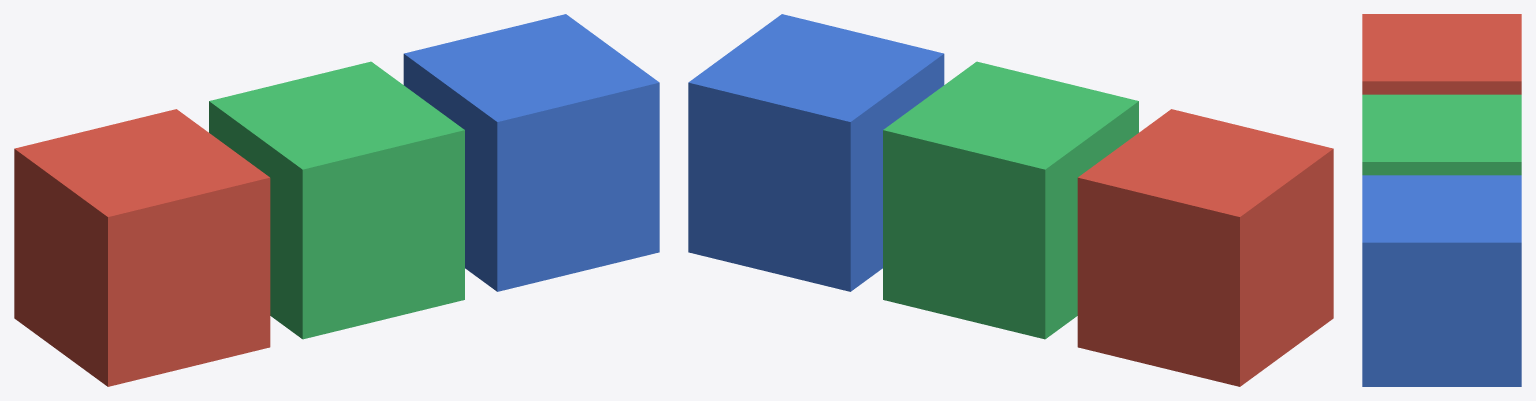
Rendered from lighting-metallic.gltf.
The picture shows the model from 3 angles, left to right: view 1: azimuth 30°, elevation 25°; view 2: azimuth 150°, elevation 25°; view 3: azimuth 270°, elevation 25°; orthographic projection. The views are drawn at different scales.
Parts seen in each view (by area): view 1: Metal Red Cube, Metal Blue Cube, Metal Green Cube; view 2: Metal Red Cube, Metal Blue Cube, Metal Green Cube; view 3: Metal Blue Cube, Metal Green Cube, Metal Red Cube.
Part boxes in pixels (x1,y1,x2,y2): Metal Red Cube: [14, 109, 270, 386]; Metal Blue Cube: [403, 14, 659, 291]; Metal Green Cube: [209, 61, 464, 339]; Metal Red Cube: [1077, 109, 1333, 386]; Metal Blue Cube: [688, 14, 944, 291]; Metal Green Cube: [883, 61, 1138, 339]; Metal Blue Cube: [1362, 175, 1521, 386]; Metal Green Cube: [1362, 94, 1521, 175]; Metal Red Cube: [1362, 14, 1521, 94].
Bounding box in the file's own units: 3.4 × 1 × 1.
